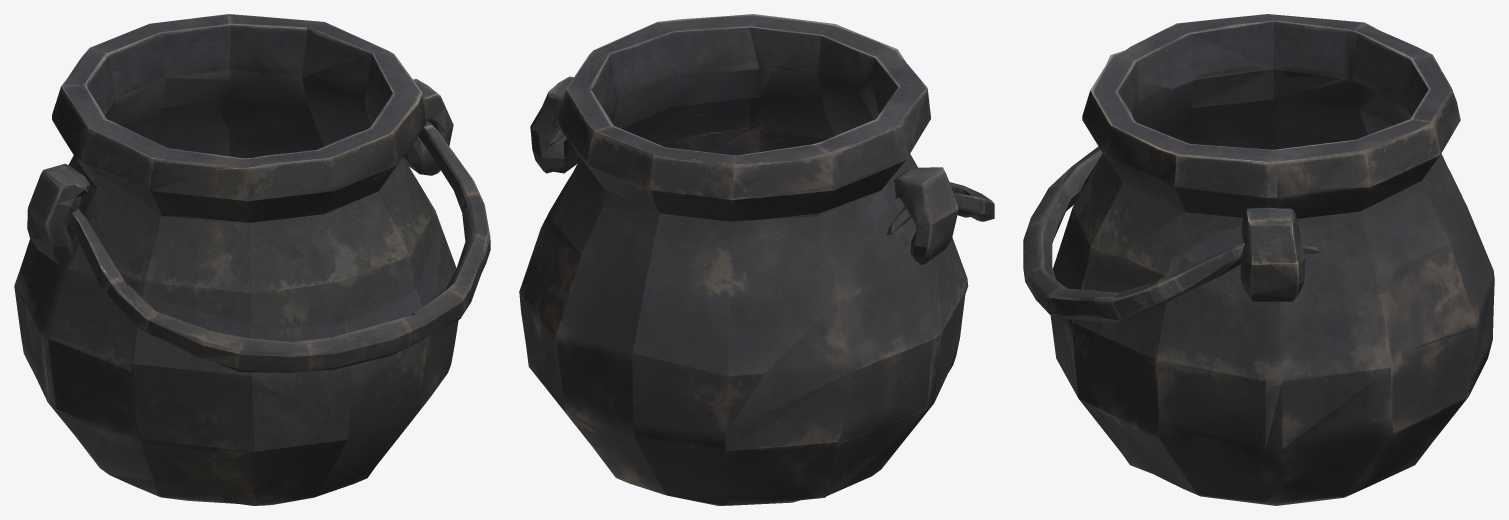
File: camping-pot.glb
3 views of the same model, side by side, from view 1: azimuth 30°, elevation 25°; view 2: azimuth 150°, elevation 25°; view 3: azimuth 270°, elevation 25° (orthographic).
Visible parts, largest first — view 1: output_unwrapped; view 2: output_unwrapped; view 3: output_unwrapped.
Boxes of the visible parts, x1,y1,x2,y2 form: output_unwrapped: (14, 14, 490, 505); output_unwrapped: (519, 14, 994, 505); output_unwrapped: (1023, 14, 1494, 505).
Size of the model in its own units: 1.9 by 1.69 by 1.9.
Materials: 1 (1 with a texture image).
